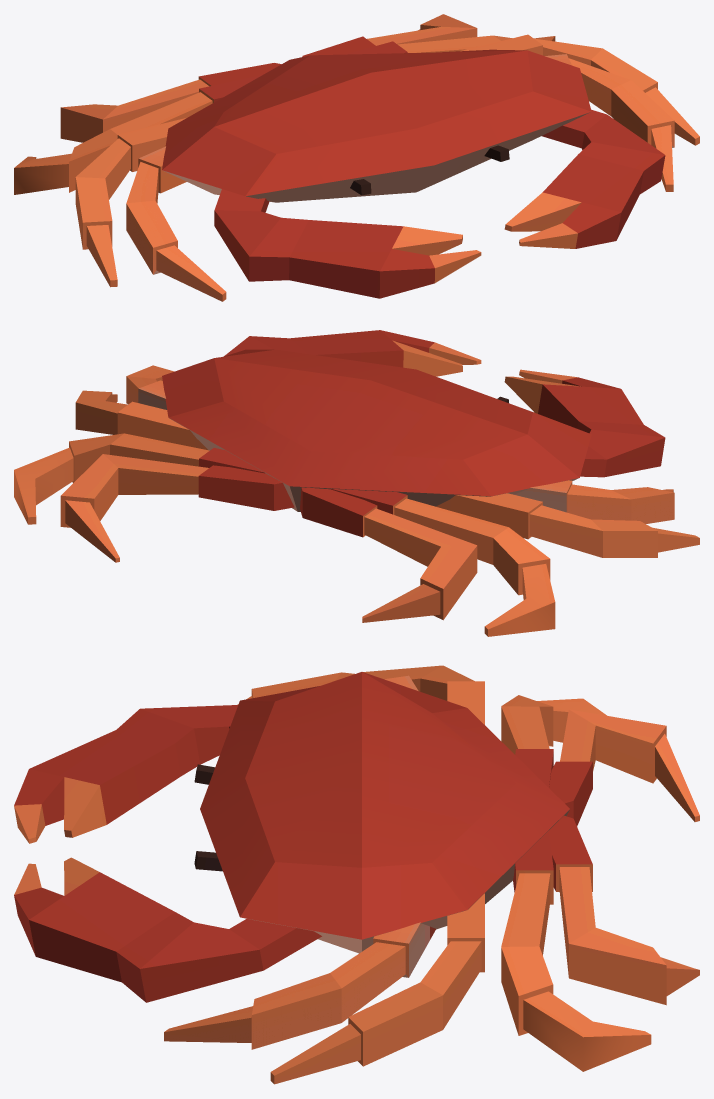
File: animals-crab-047.glb
3 renders of one model, top to bottom at view 1: azimuth 30°, elevation 25°; view 2: azimuth 150°, elevation 25°; view 3: azimuth 270°, elevation 25°, orthographic. The views are drawn at different scales.
Parts seen in each view (by area): view 1: Geo_Crab; view 2: Geo_Crab; view 3: Geo_Crab.
Part boxes in pixels (<box>): Geo_Crab: <box>14,14,699,301</box>; Geo_Crab: <box>14,330,699,636</box>; Geo_Crab: <box>14,665,699,1084</box>.
Bounding box in the file's own units: 100 × 19.42 × 78.77.
1 material, 1 textured.
